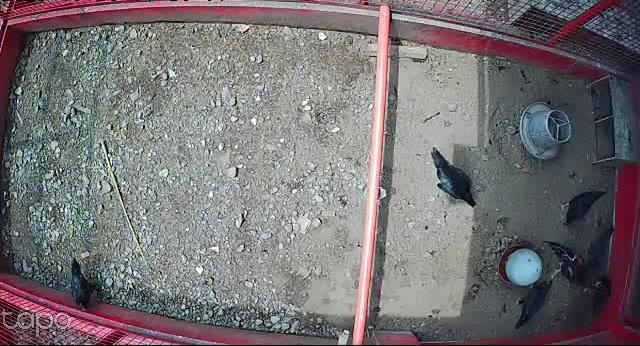Chicken: (427, 143, 477, 209), (66, 256, 106, 314), (512, 279, 556, 329), (584, 209, 614, 278), (558, 187, 611, 226)
Drinker: (497, 241, 543, 288)
Feeder: (520, 100, 574, 161)
Rooster: (542, 229, 597, 293)
